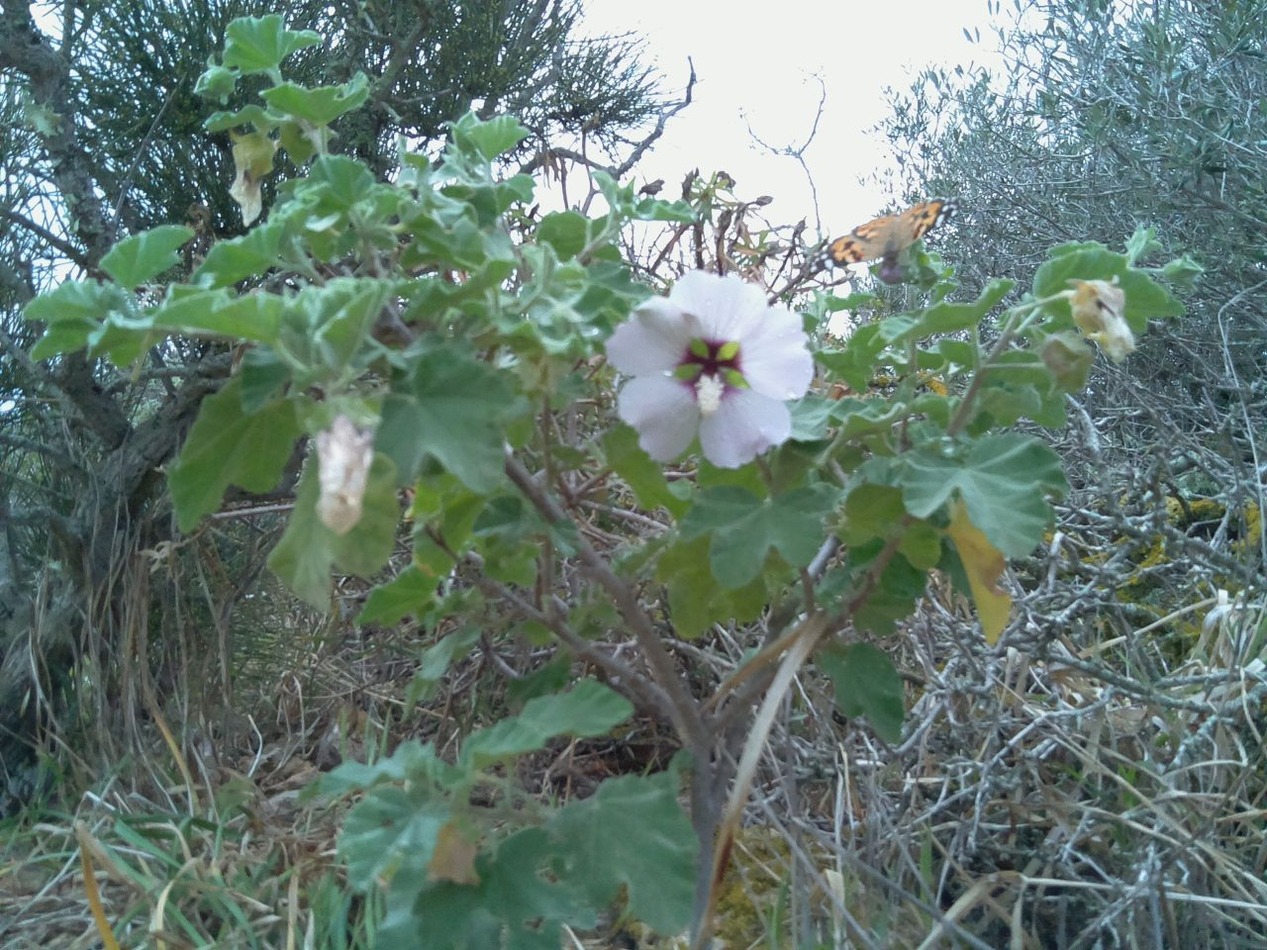Vanessa cardui: (808, 187, 977, 282)
